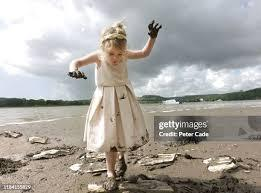earth: (111, 111, 120, 124), (141, 130, 149, 142), (119, 94, 127, 101)
